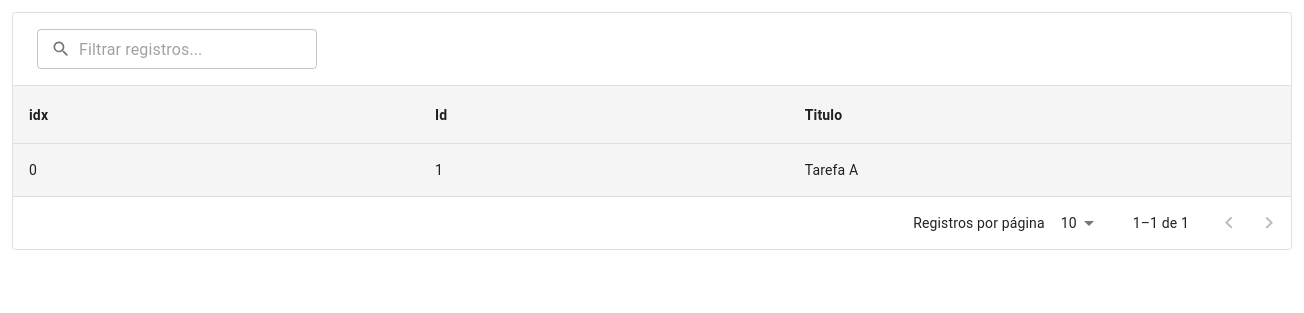
ExternalScreen — master/detail (st-10) › exibe botão 'Voltar à lista' quando entra em modo detalhe
The width and height of the screenshot is (1304, 313).
Expected: the button "voltar" is not shown
# Clicar na linha abre o detalhe
What coordinates should you click on to do the following:
click the text "Tarefa A"
I would click on:
 (1040, 171)
Its box is [789,144,1291,197].
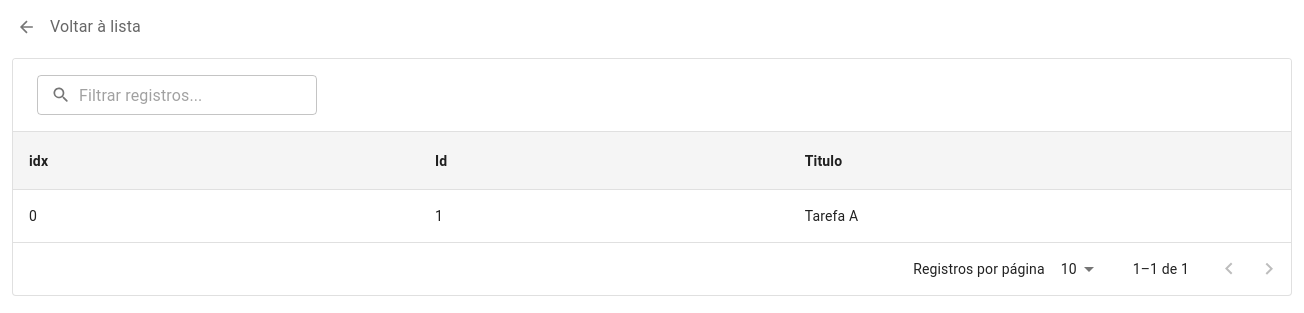
Now the button named "voltar" is shown, box [12,12,42,42]
